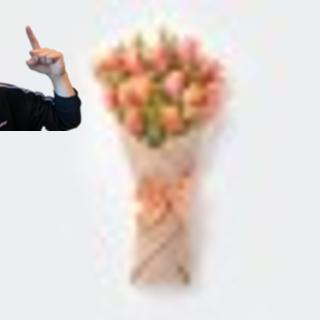IRRITATED: (22, 24, 67, 78)
